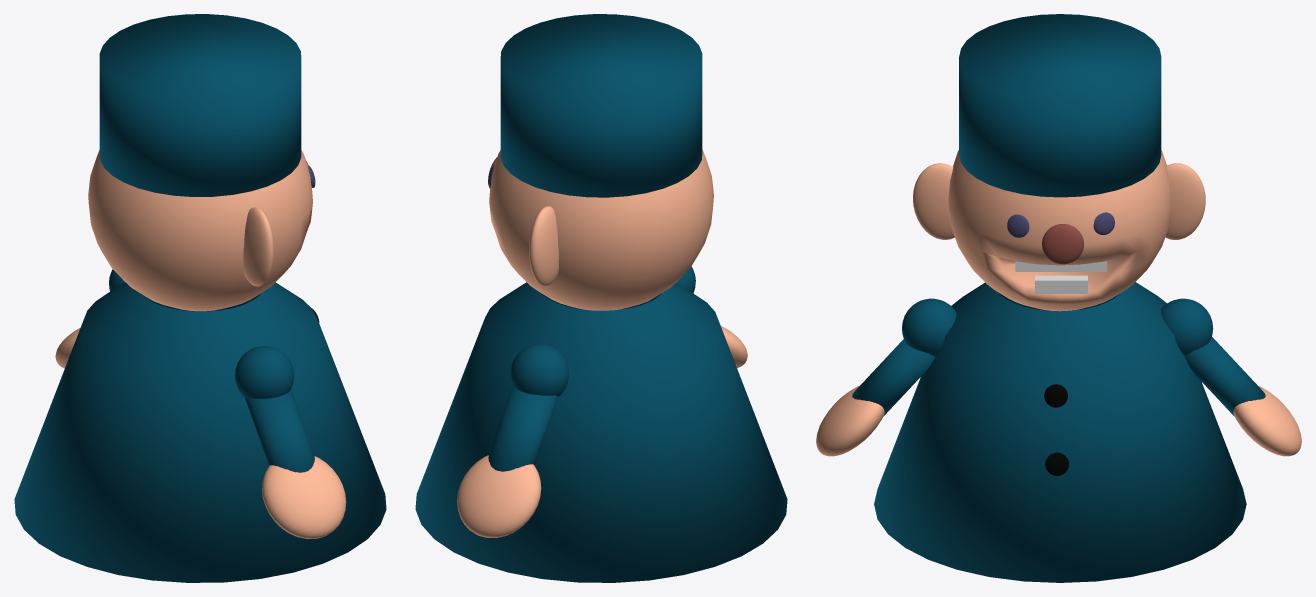
File: Waiter.fbx
3 renders of one model, left to right at view 1: azimuth 30°, elevation 25°; view 2: azimuth 150°, elevation 25°; view 3: azimuth 270°, elevation 25°, orthographic.
Visible parts, largest first — view 1: Cone; view 2: Cone; view 3: Cone.
Boxes of the visible parts, <box> form: Cone: <box>14,14,386,582</box>; Cone: <box>415,14,787,582</box>; Cone: <box>816,14,1301,582</box>.
Bounding box in the file's own units: 200 × 294 × 261.
